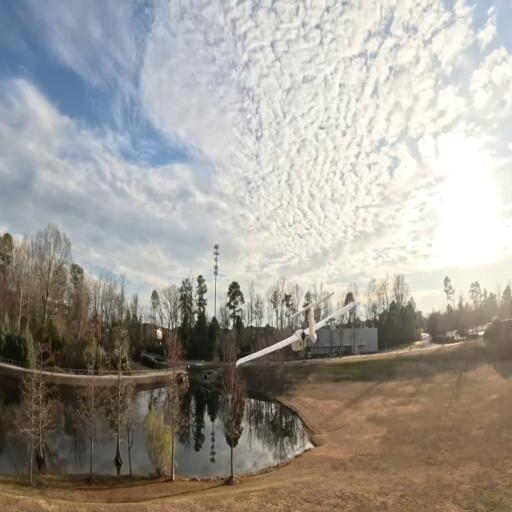uav: (236, 286, 358, 370)
